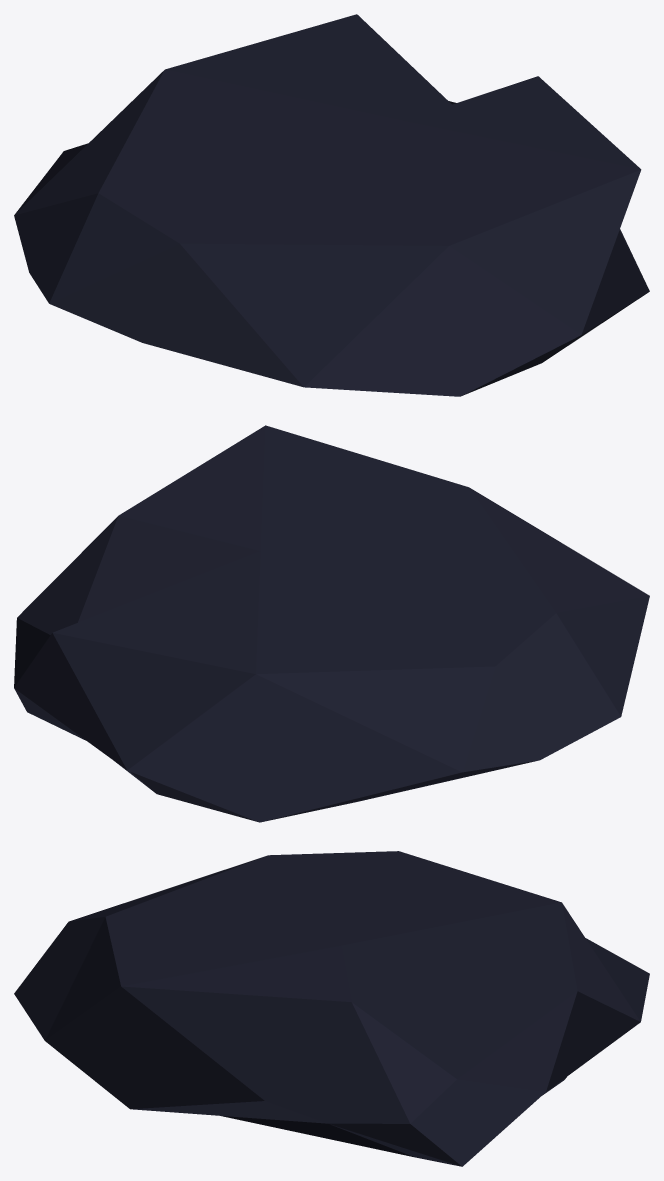
File: CaveRock05.fbx
3 renders of one model, top to bottom at view 1: azimuth 30°, elevation 25°; view 2: azimuth 150°, elevation 25°; view 3: azimuth 270°, elevation 25°, orthographic. The views are drawn at different scales.
Parts seen in each view (by area): view 1: Gem.005; view 2: Gem.005; view 3: Gem.005.
Boxes of the visible parts, box(x1,y1,x2,y2) form: Gem.005: box(14, 14, 649, 396); Gem.005: box(14, 425, 649, 822); Gem.005: box(14, 851, 649, 1166).
Size of the model in its own units: 1742 by 547 by 1840.
